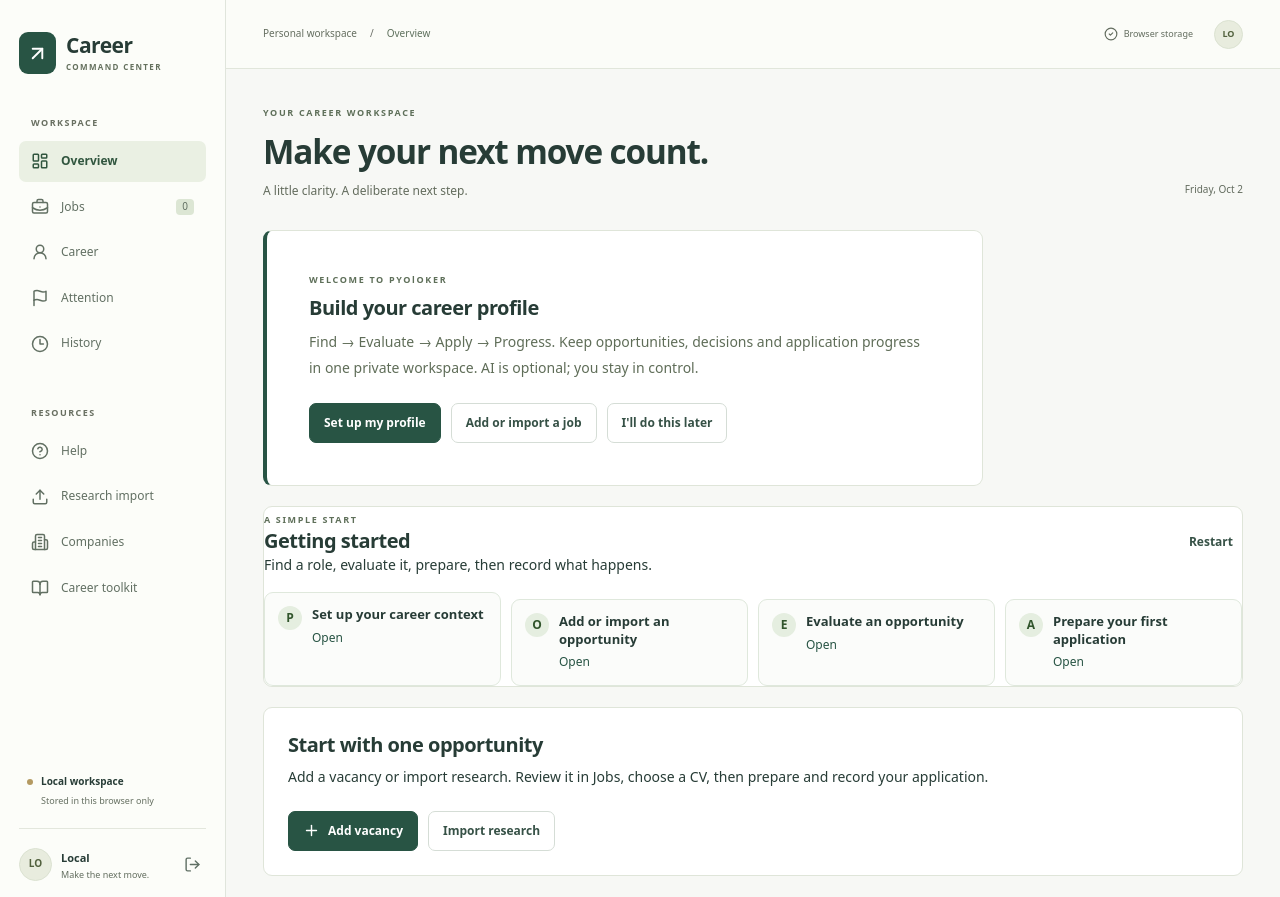
Scenario: private workspace UI › teaches a new user the workflow and lets them defer the welcome
Expected: the heading "Build your career profile" is shown, x1=309 y1=294 x2=539 y2=321
Expected: the heading "Getting started" is shown, x1=264 y1=528 x2=410 y2=554
Click the button "I'll do this later". click: (667, 423)
box: x1=606 y1=403 x2=727 y2=443
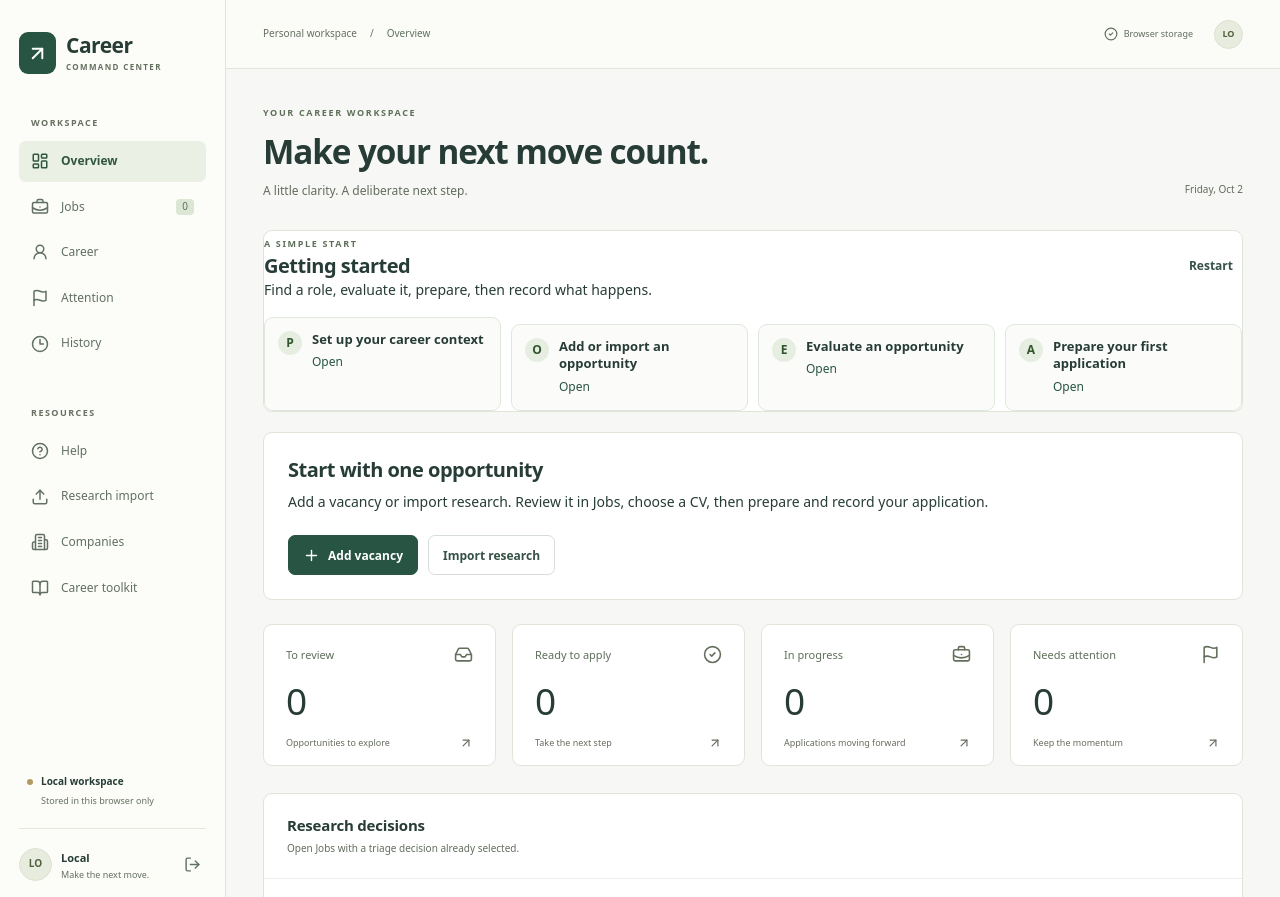
Result: the heading "Build your career profile" is gone
